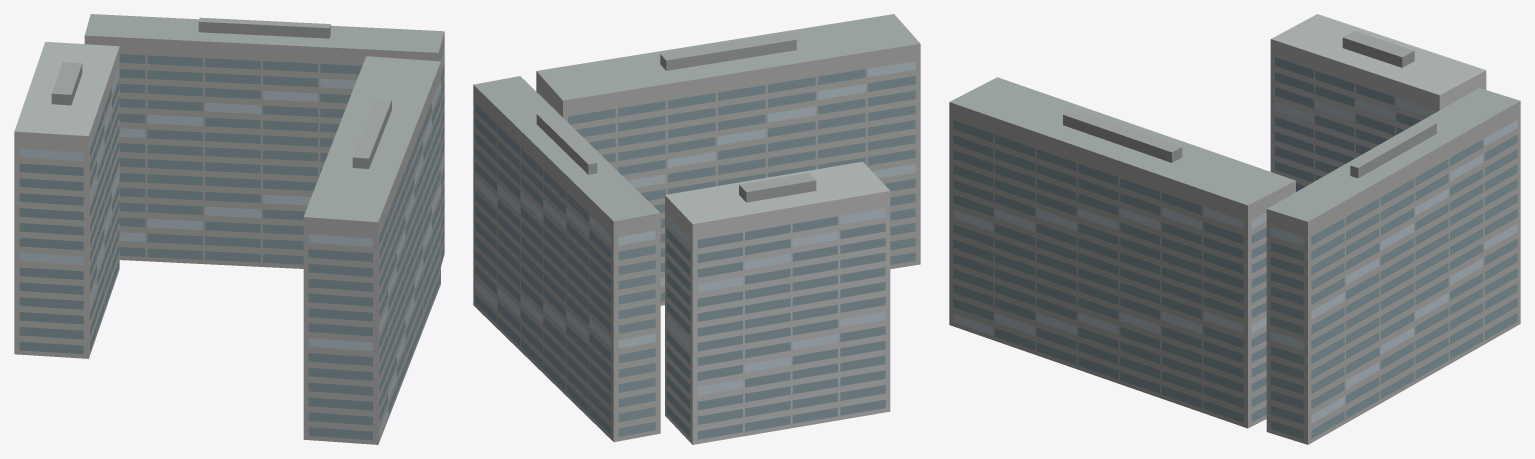
File: apt-a12013101.glb
3 views of the same model, side by side, from view 1: azimuth 30°, elevation 25°; view 2: azimuth 150°, elevation 25°; view 3: azimuth 270°, elevation 25° (orthographic).
Visible parts, largest first — view 1: apt-a12013101; view 2: apt-a12013101; view 3: apt-a12013101.
Part boxes in pixels (box(x1,y1,x2,y2)): apt-a12013101: box(14, 14, 444, 444); apt-a12013101: box(473, 14, 920, 444); apt-a12013101: box(949, 14, 1520, 444).
Size of the model in its own units: 76.37 by 40 by 88.69.
